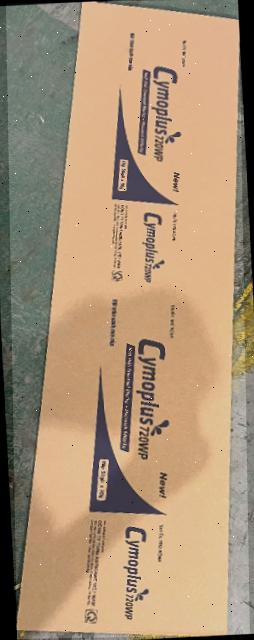box: (16, 2, 238, 635)
